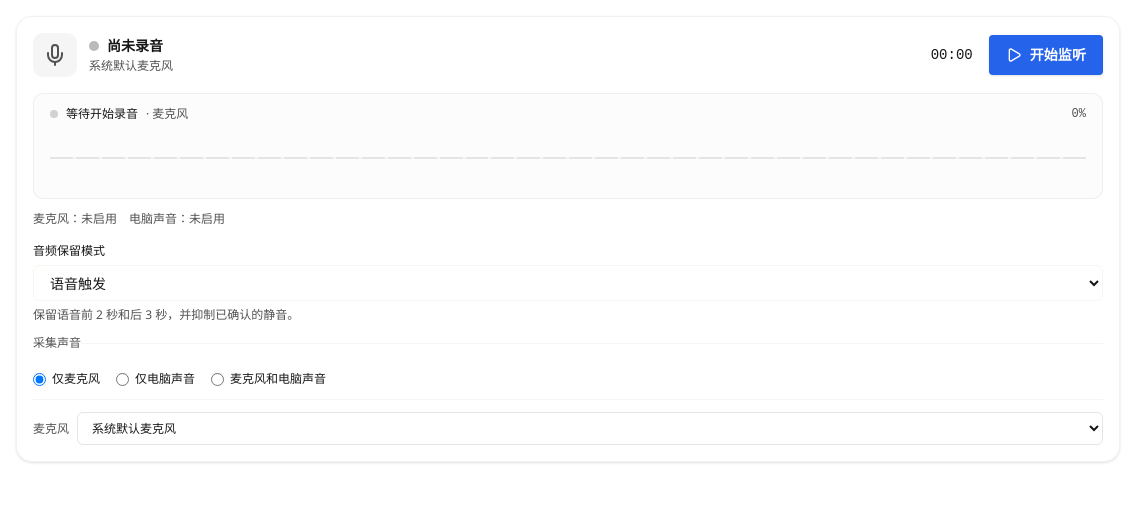
Test: first-use recording consent › catches rejected commands and surfaces an accessible error
The width and height of the screenshot is (1137, 508).
Click the button "开始监听" at {"x": 1046, "y": 55}, box 989,35 -> 1103,75
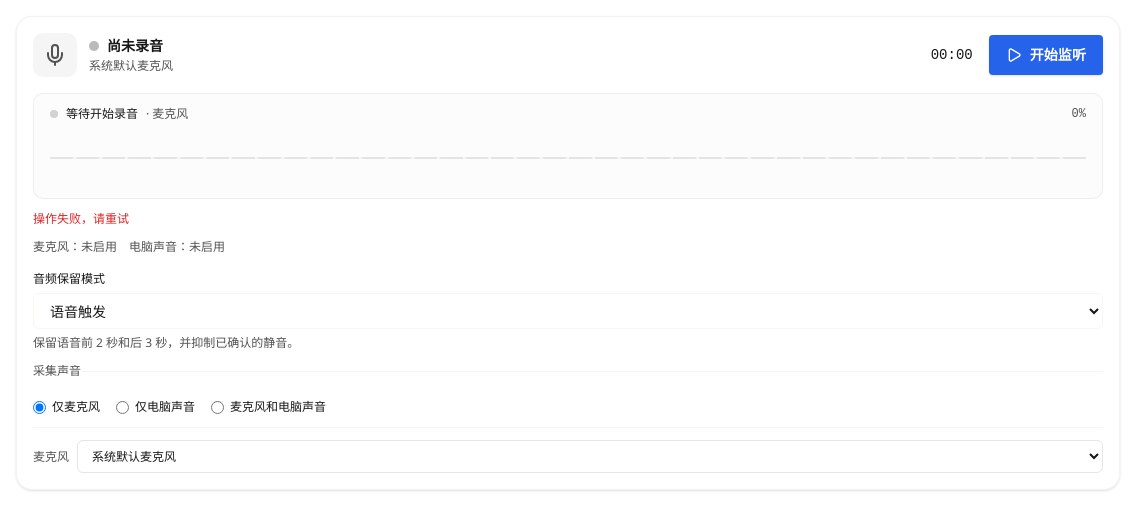
Now the message reads "操作失败，请重试", box 33,210 -> 129,227
